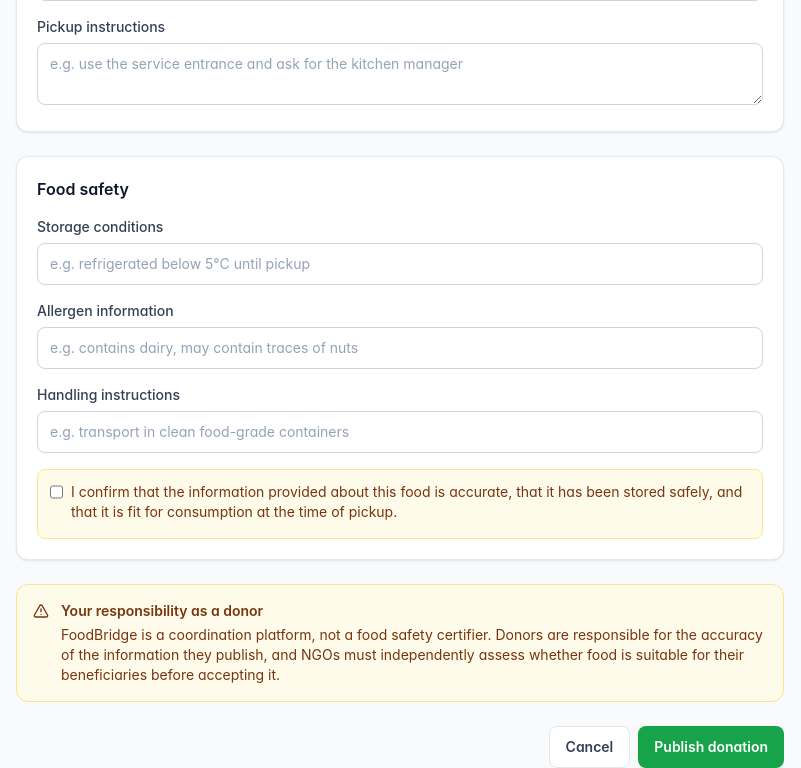
Test: DonationFormPage validation › blocks submission and shows field errors when required data is missing
(page scrolled)
Step 1. Click the button "Publish donation" → (711, 747), box [638,726,784,767]
(page scrolled)
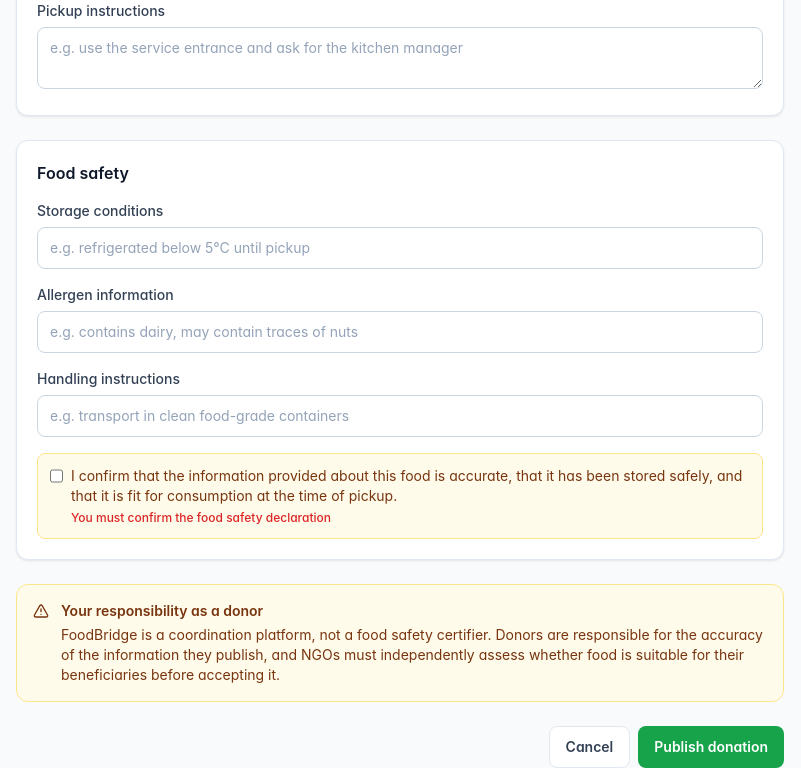
Now the text "You must confirm the food safety declaration" is shown, box [71,510,331,525]
